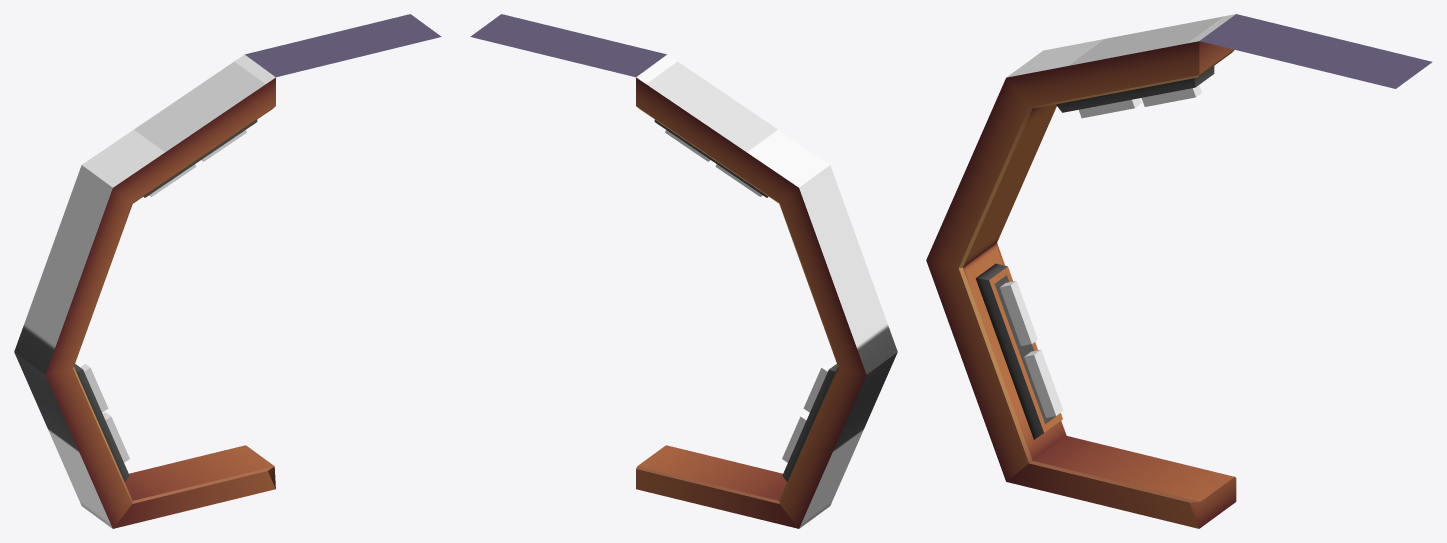
File: Corridor_support_beam_1.glb
3 views of the same model, side by side, from view 1: azimuth 30°, elevation 25°; view 2: azimuth 150°, elevation 25°; view 3: azimuth 330°, elevation 25° (orthographic). The views are drawn at different scales.
Parts seen in each view (by area): view 1: Corridor_start_piece; view 2: Corridor_start_piece; view 3: Corridor_start_piece.
Boxes of the visible parts, x1,y1,x2,y2 form: Corridor_start_piece: [14, 14, 441, 528]; Corridor_start_piece: [470, 14, 897, 528]; Corridor_start_piece: [926, 14, 1432, 528].
Size of the model in its own units: 3.14 by 3.11 by 0.4289.
Materials: 1 (1 with a texture image).
